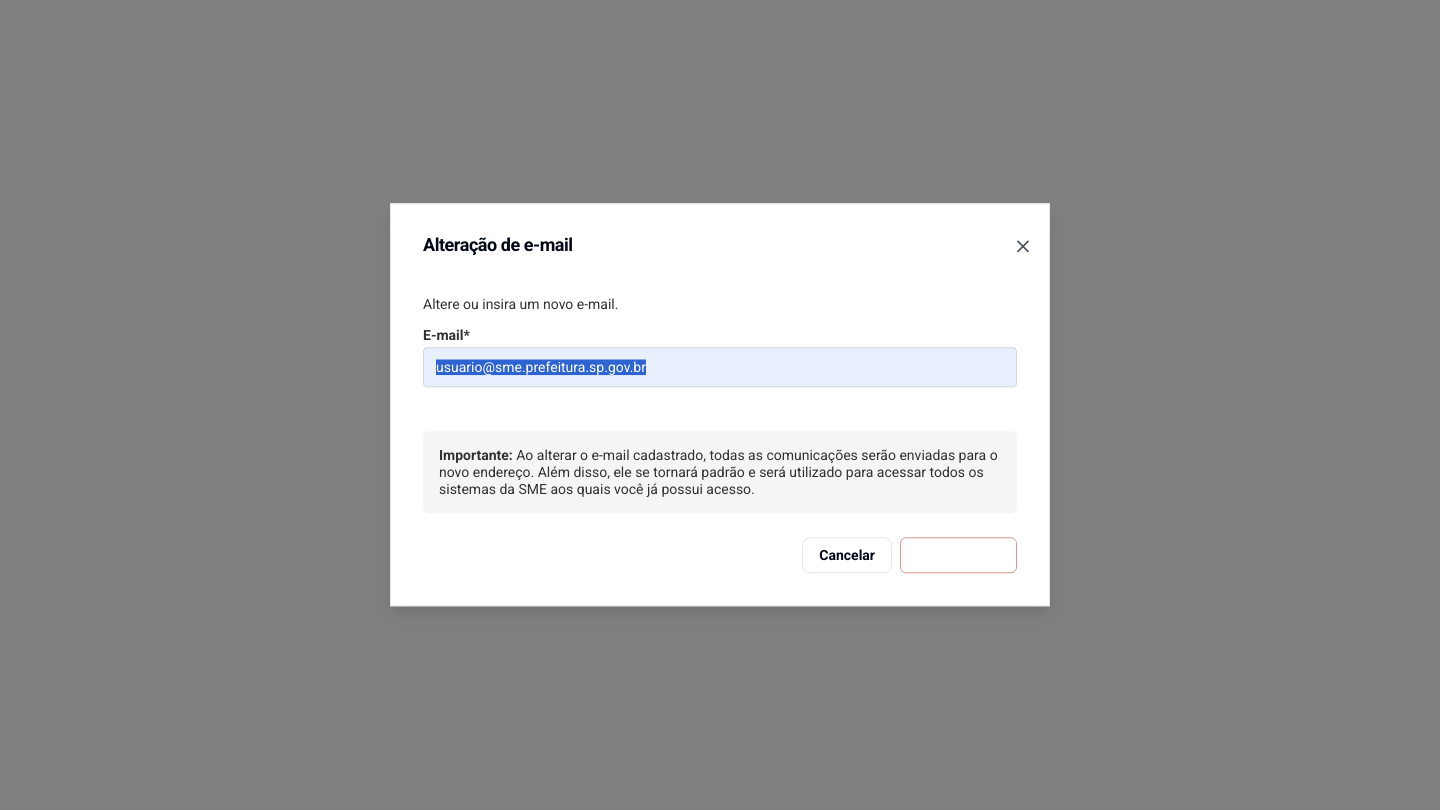
Scenario: ModalAlterarEmail › exibe a mensagem de erro retornada pela API quando a mutation falha
Replace the text in the field with test id "input-email" with "novo@sme.prefeitura.sp.gov.br": coordinates (720, 367) [423, 347, 1017, 387]
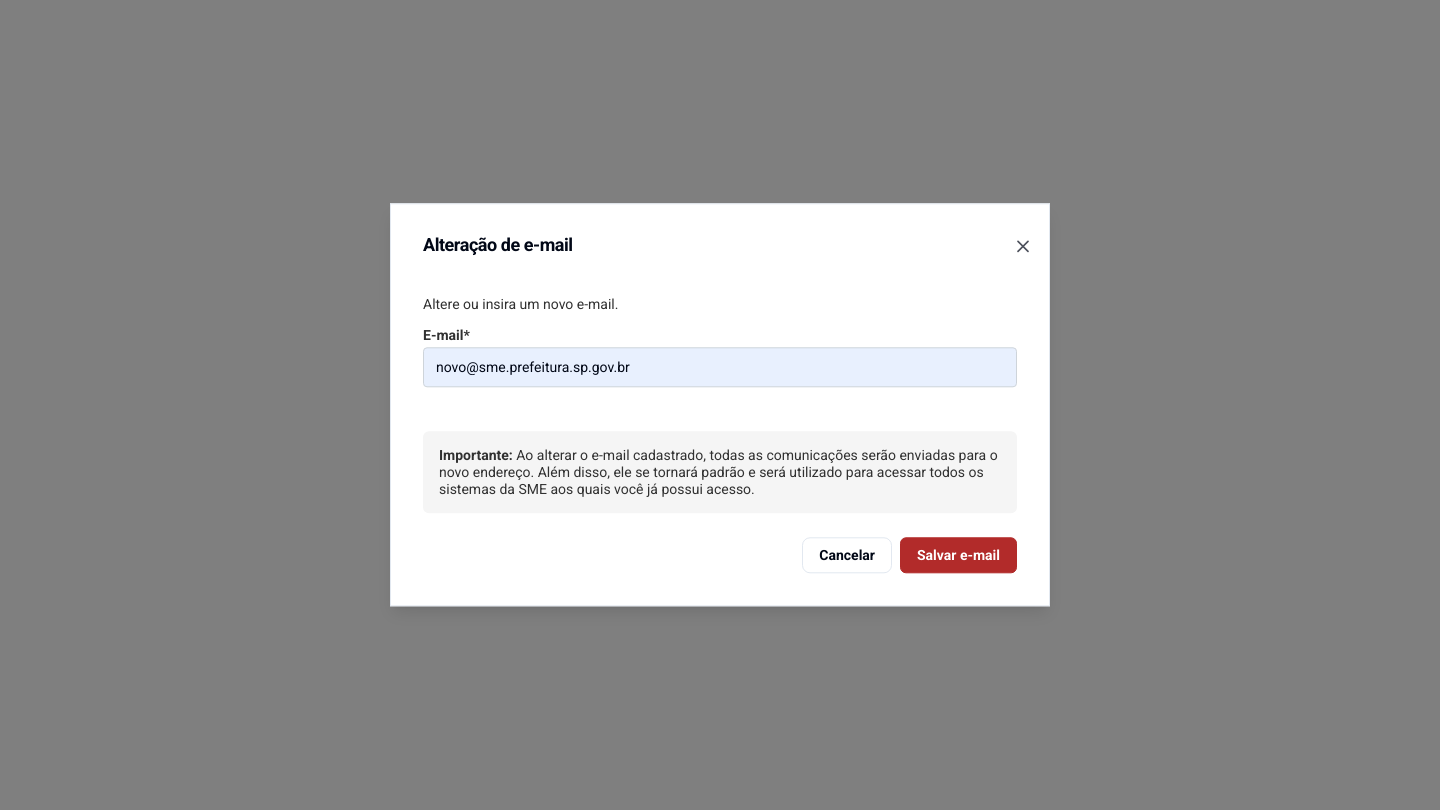
Click the button "Salvar e-mail": coordinates (958, 556) [900, 538, 1017, 574]
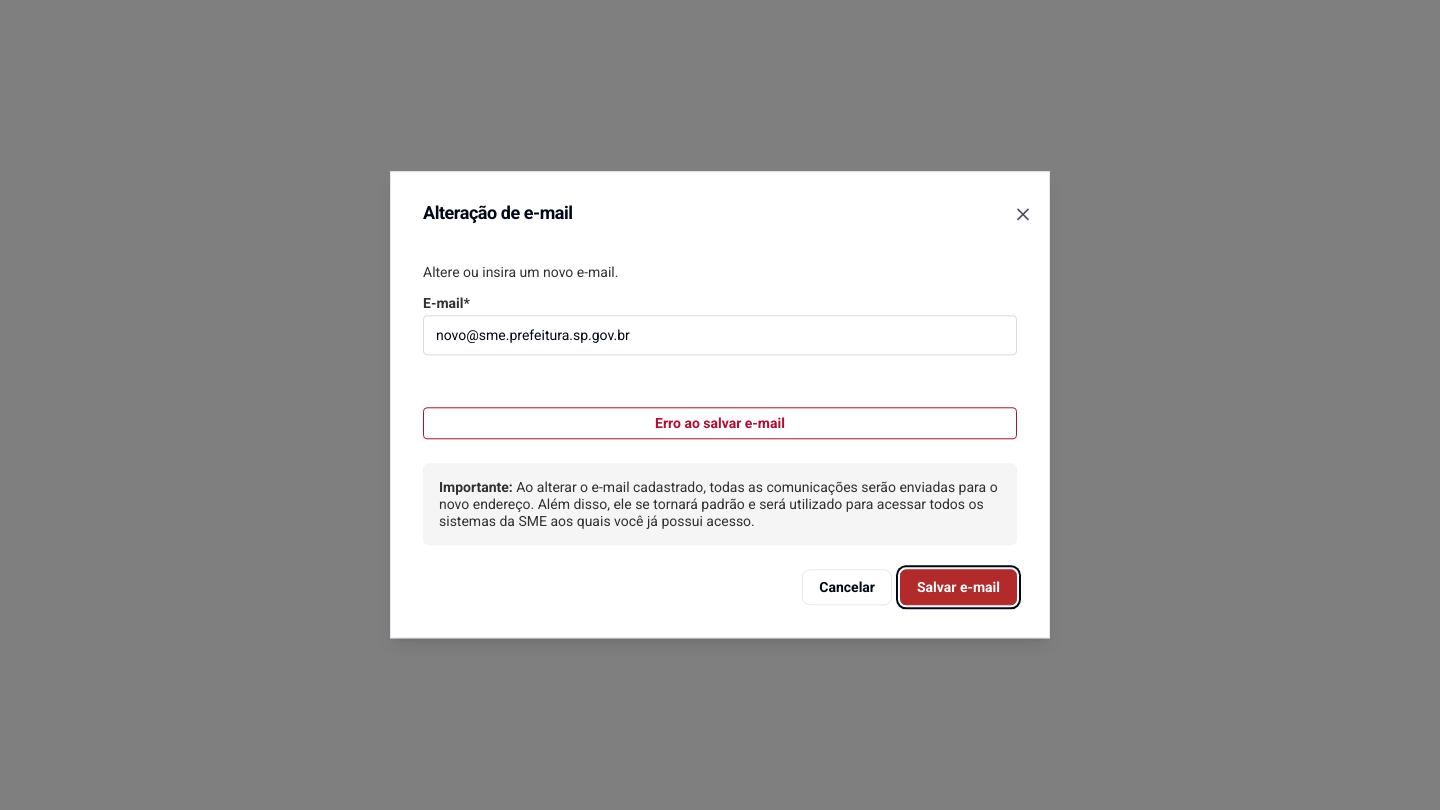
Now the text "Erro ao salvar e-mail" is shown, box [423, 407, 1017, 439]
